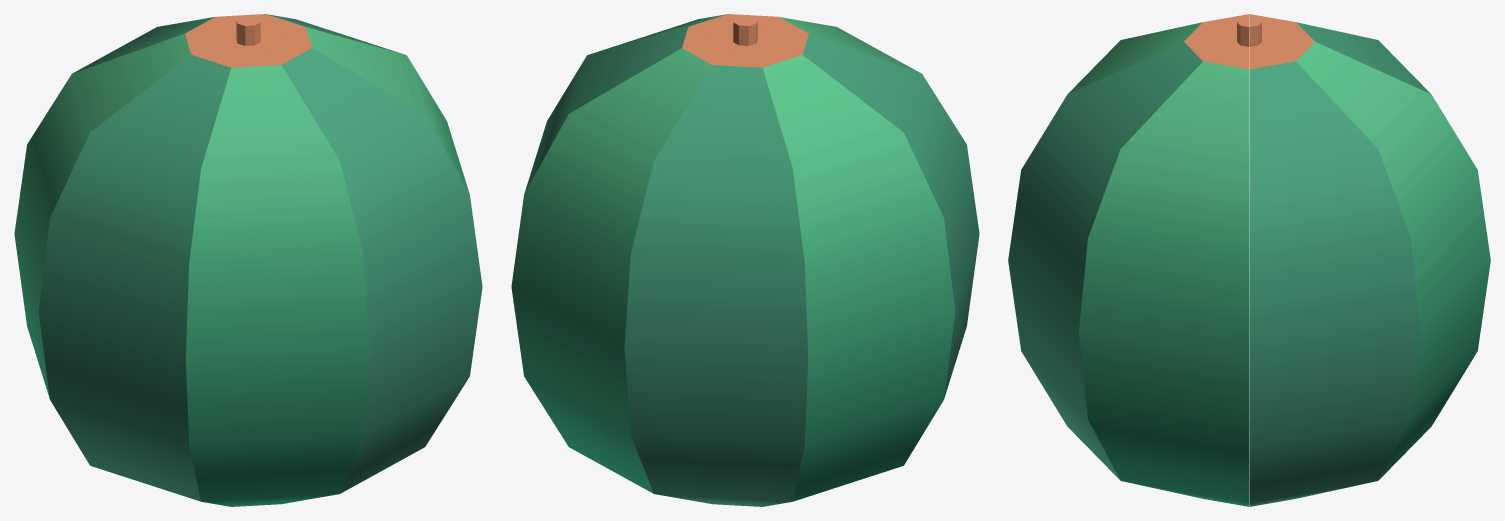
Rendered from watermelon.glb.
3 renders of one model, left to right at view 1: azimuth 30°, elevation 25°; view 2: azimuth 150°, elevation 25°; view 3: azimuth 270°, elevation 25°, orthographic.
Visible parts, largest first — view 1: slice (×7); view 2: slice (×7); view 3: slice (×6).
Part boxes in pixels (box(x1,y1,x2,y2)): slice (×7): box(14, 14, 482, 506); slice (×7): box(511, 14, 979, 506); slice (×6): box(1008, 18, 1490, 506).
Bounding box in the file's own units: 0.4554 × 0.4761 × 0.4554.
Materials: 1 (1 with a texture image).
